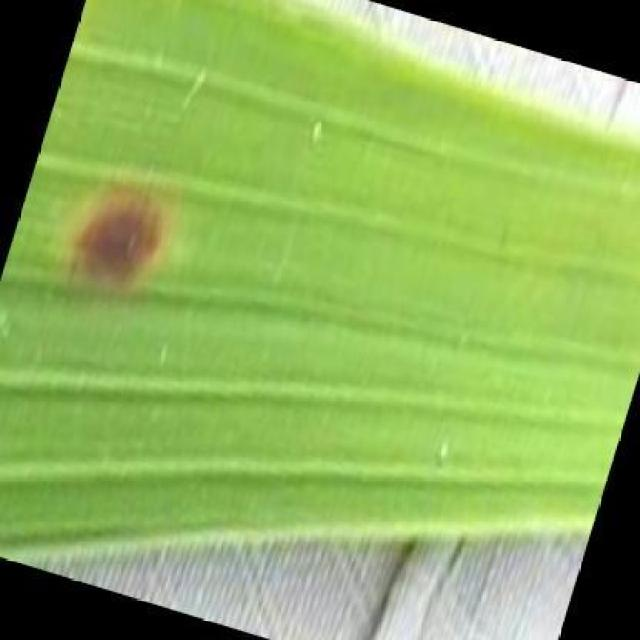Leaf_Blast: (36, 157, 209, 332)
